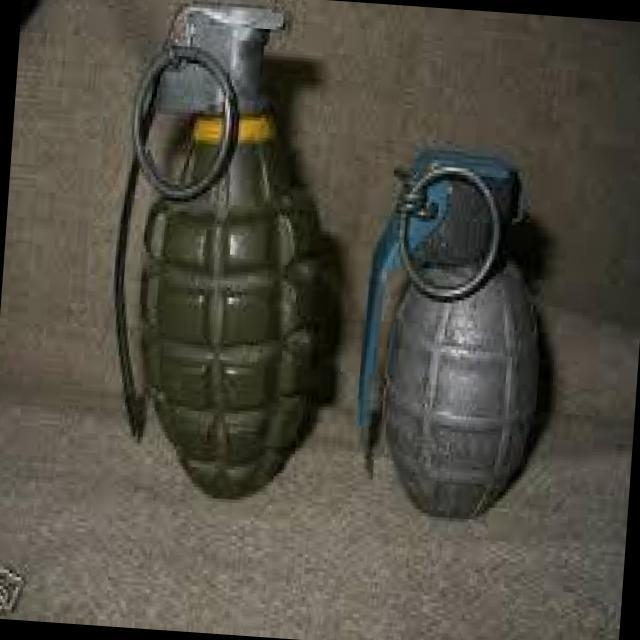grenade: (65, 0, 374, 505), (347, 143, 575, 530)
